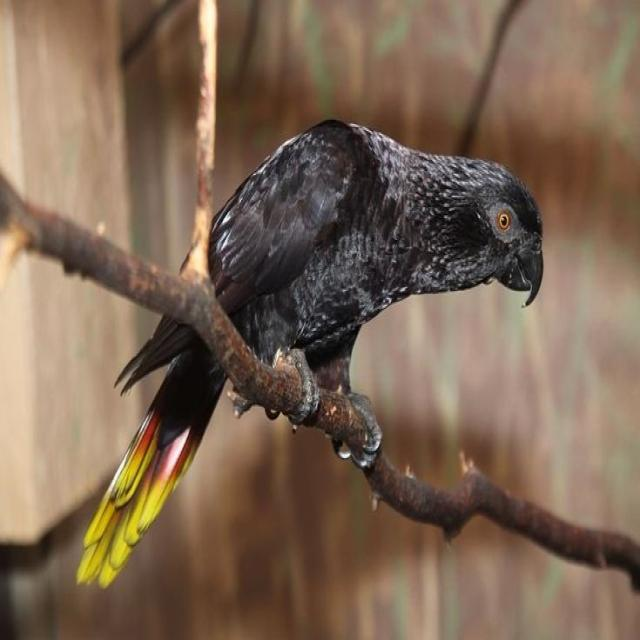Nuri Hitam: (62, 79, 562, 624)
